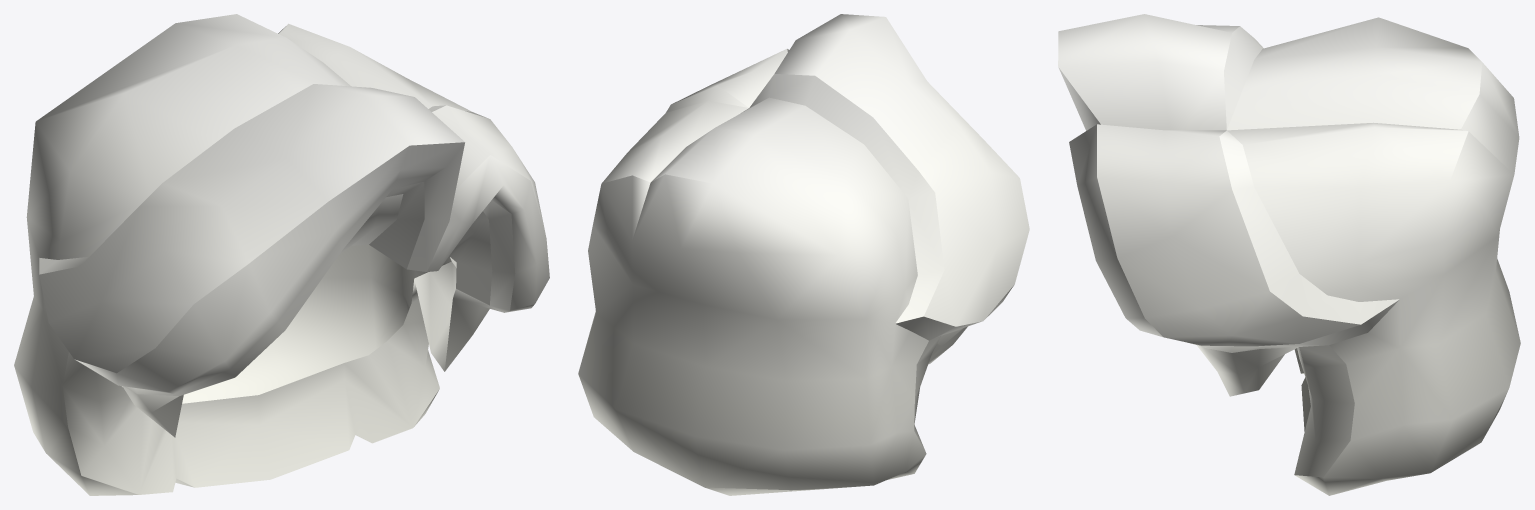
The model's file is Hair_White_5.fbx.
The picture shows the model from 3 angles, left to right: view 1: azimuth 30°, elevation 25°; view 2: azimuth 150°, elevation 25°; view 3: azimuth 270°, elevation 25°; orthographic projection. The views are drawn at different scales.
Parts seen in each view (by area): view 1: Hair_White_5; view 2: Hair_White_5; view 3: Hair_White_5.
Boxes of the visible parts, box(x1,y1,x2,y2) form: Hair_White_5: box(14, 14, 549, 495); Hair_White_5: box(578, 14, 1029, 495); Hair_White_5: box(1058, 14, 1520, 495).
Size of the model in its own units: 67.62 by 68.28 by 65.32.
